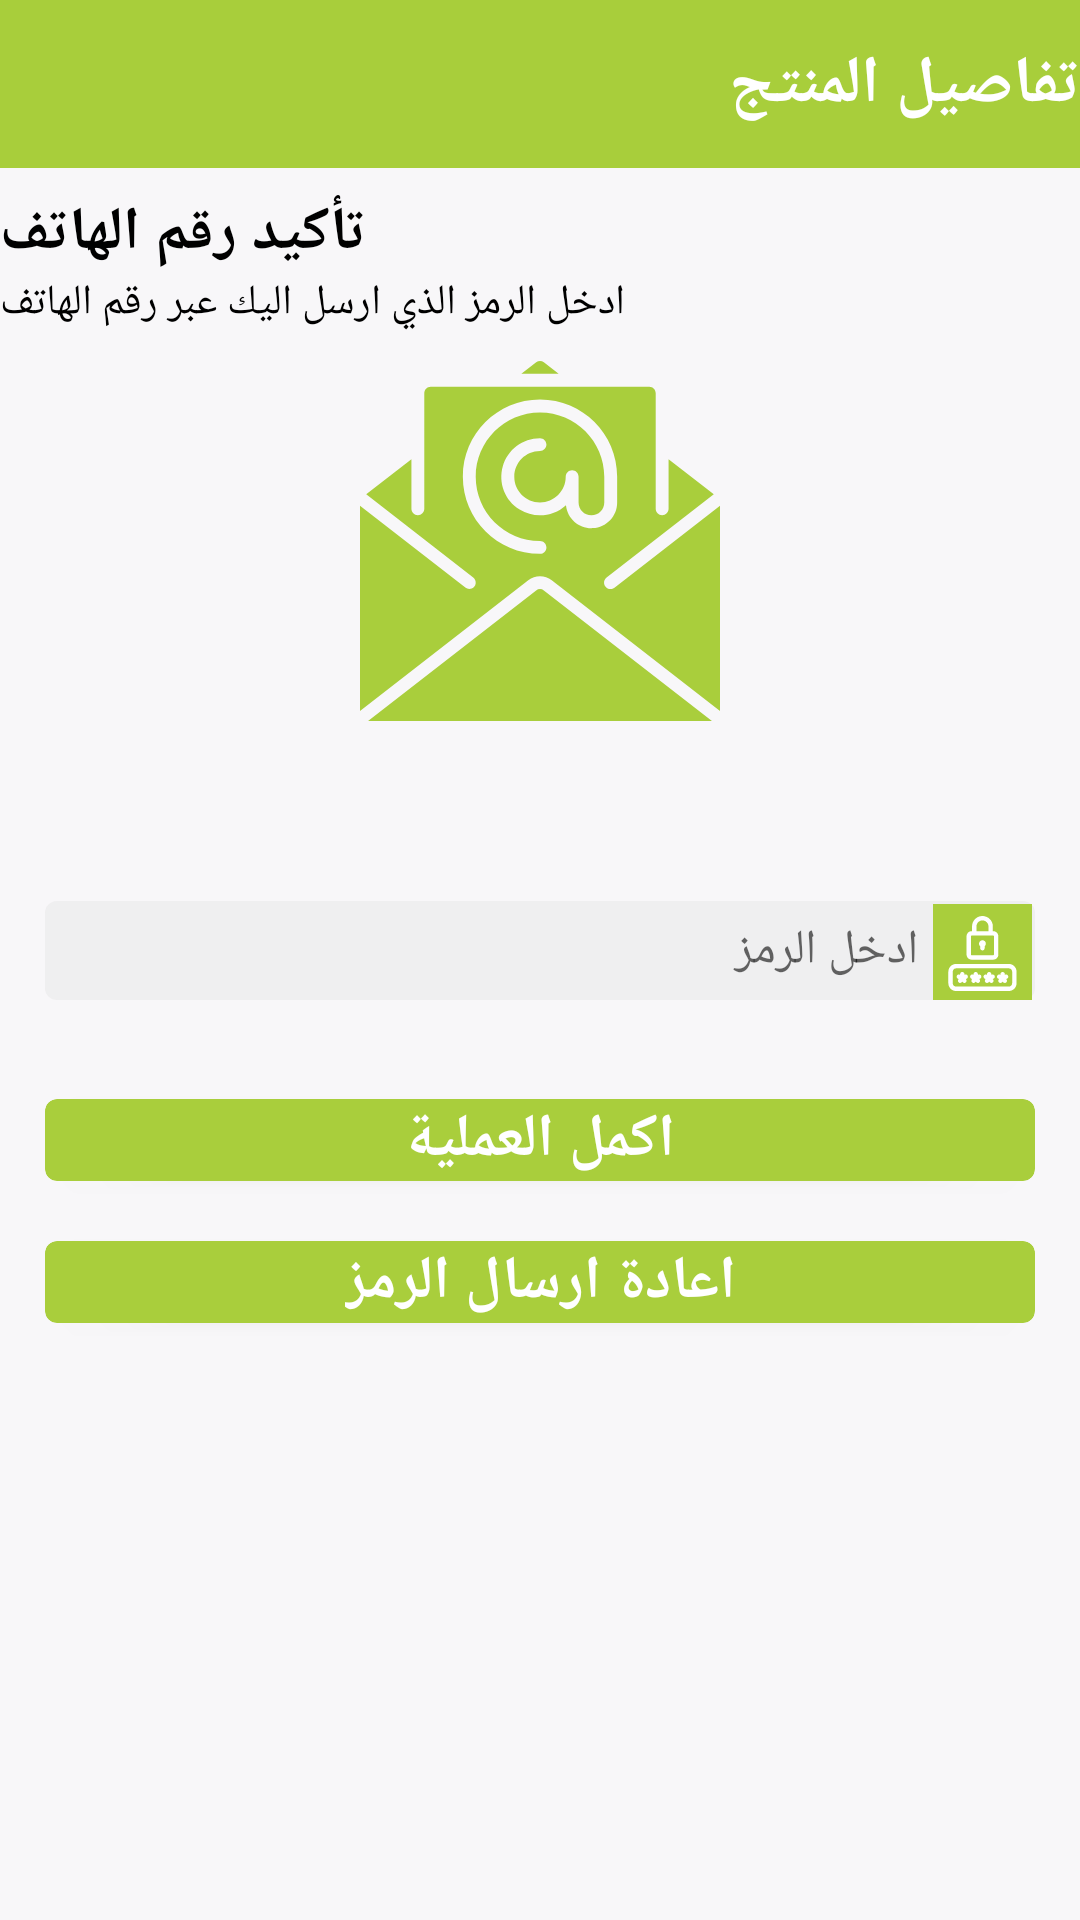

Point at icon controls on the screen. Image size 1080×1920, points as [x,y].
email code: [540,541]
password: [982,952]
